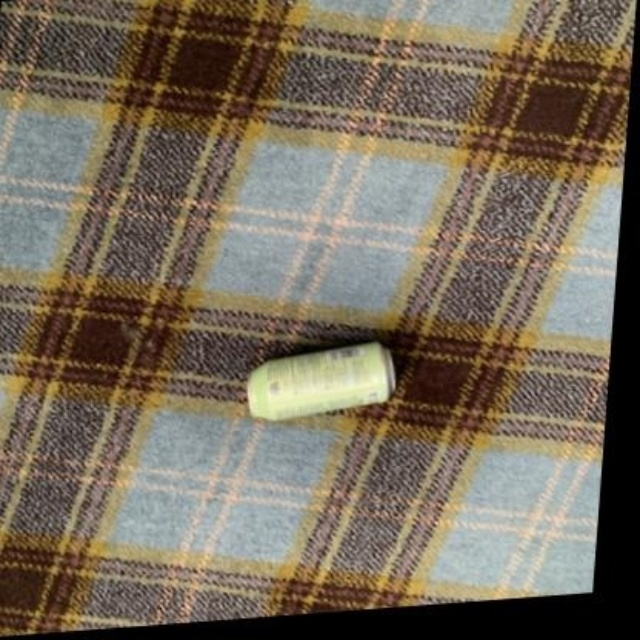trash: (248, 342, 394, 420)
